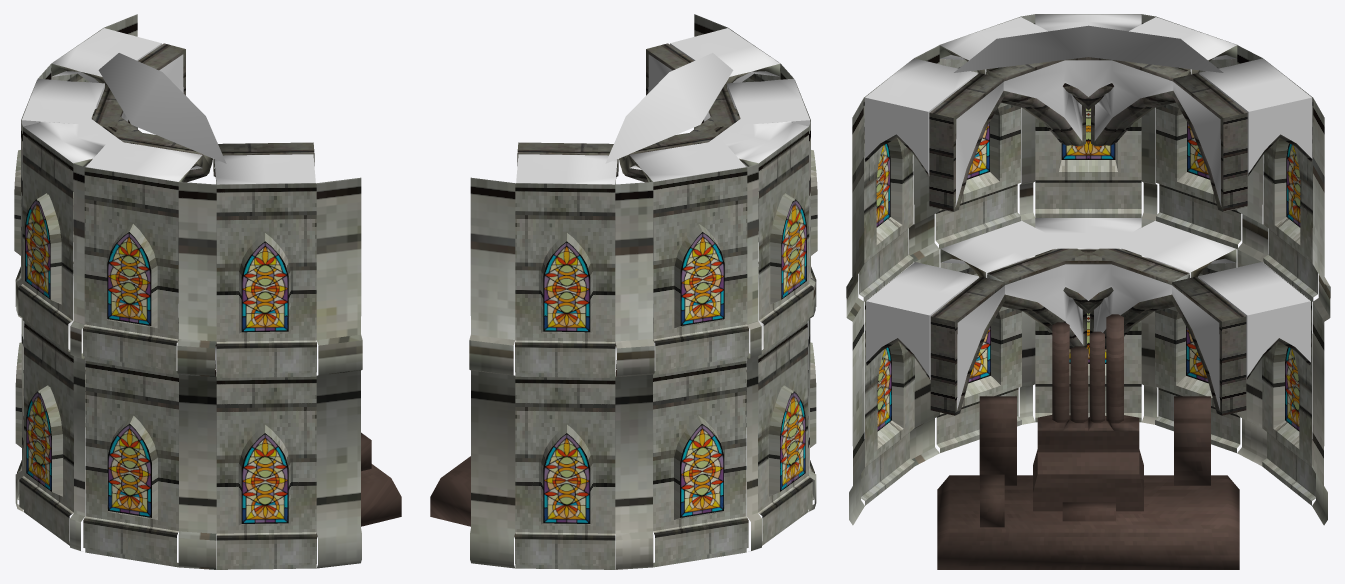
Rendered from Cathedral_end.fbx.
3 views of the same model, side by side, from view 1: azimuth 30°, elevation 25°; view 2: azimuth 150°, elevation 25°; view 3: azimuth 270°, elevation 25° (orthographic). The views are drawn at different scales.
Visible parts, largest first — view 1: Pillars_1.004; view 2: Pillars_1.004; view 3: Pillars_1.004.
Boxes of the visible parts, left/top/right/bottom form: Pillars_1.004: left=14, top=14, right=401, bottom=569; Pillars_1.004: left=430, top=14, right=817, bottom=569; Pillars_1.004: left=846, top=14, right=1330, bottom=569.
Bounding box in the file's own units: 899 × 1273 × 1220.
